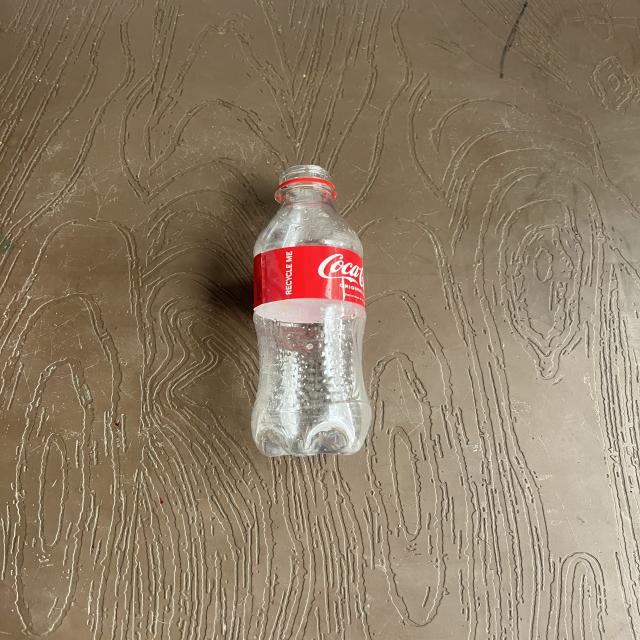REJECT: (247, 176, 387, 454)
